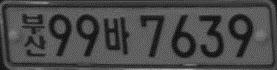3: (198, 14, 224, 58)
6: (170, 14, 197, 57)
7: (139, 14, 165, 57)
9: (227, 13, 253, 57), (74, 13, 99, 56), (48, 13, 72, 57)
바: (103, 16, 130, 55)
부산_V: (21, 13, 47, 57)
